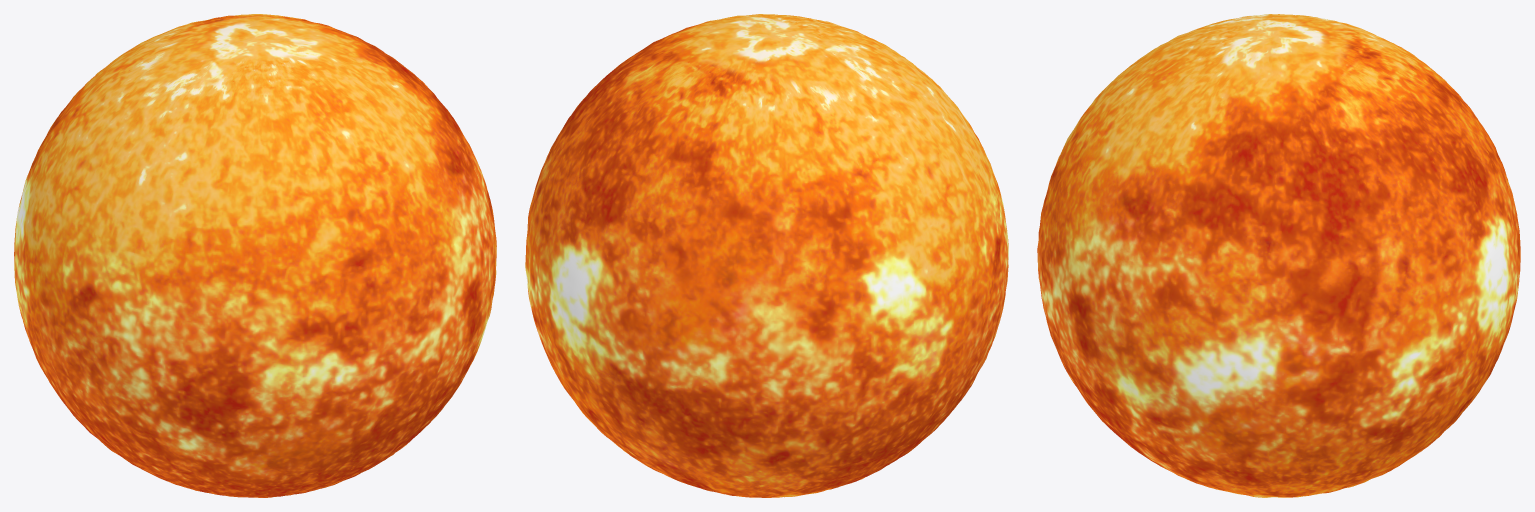
The model's file is sun.glb.
The picture shows the model from 3 angles, left to right: view 1: azimuth 30°, elevation 25°; view 2: azimuth 150°, elevation 25°; view 3: azimuth 270°, elevation 25°; orthographic projection.
Visible parts, largest first — view 1: Sun • photosphere; view 2: Sun • photosphere; view 3: Sun • photosphere.
Boxes of the visible parts, x1,y1,x2,y2 form: Sun • photosphere: [14, 14, 496, 497]; Sun • photosphere: [525, 14, 1008, 497]; Sun • photosphere: [1037, 14, 1520, 497].
Size of the model in its own units: 6 by 6 by 6.
Materials: 1 (1 with a texture image).
